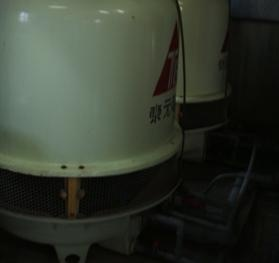water_tower: (1, 1, 184, 263)
